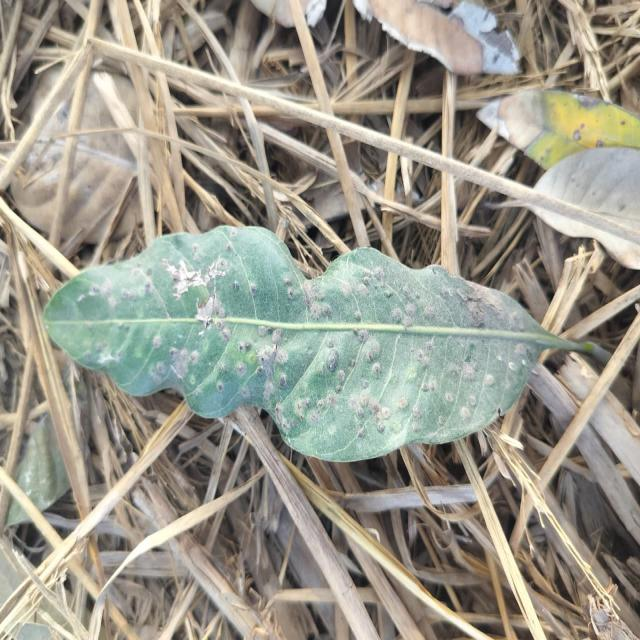Powdery Mildew: (169, 264, 206, 292), (195, 298, 214, 322)
gall midge: (356, 328, 387, 381), (325, 335, 349, 385), (392, 302, 420, 330)
